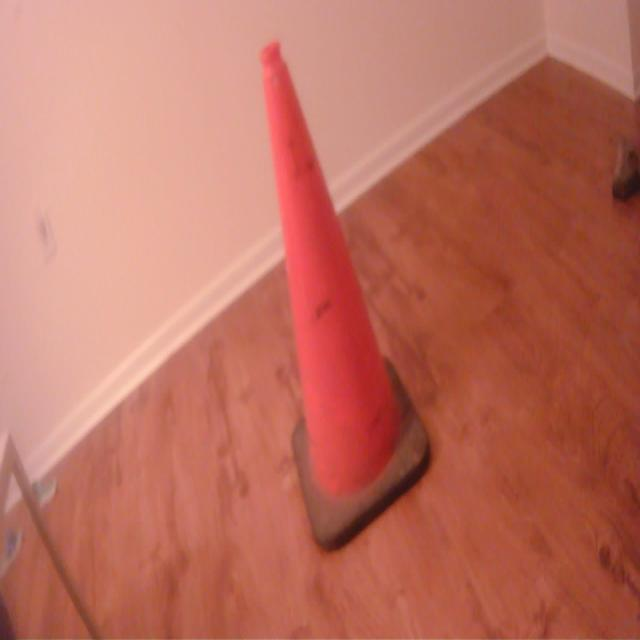traffic cone: (258, 34, 436, 556)
